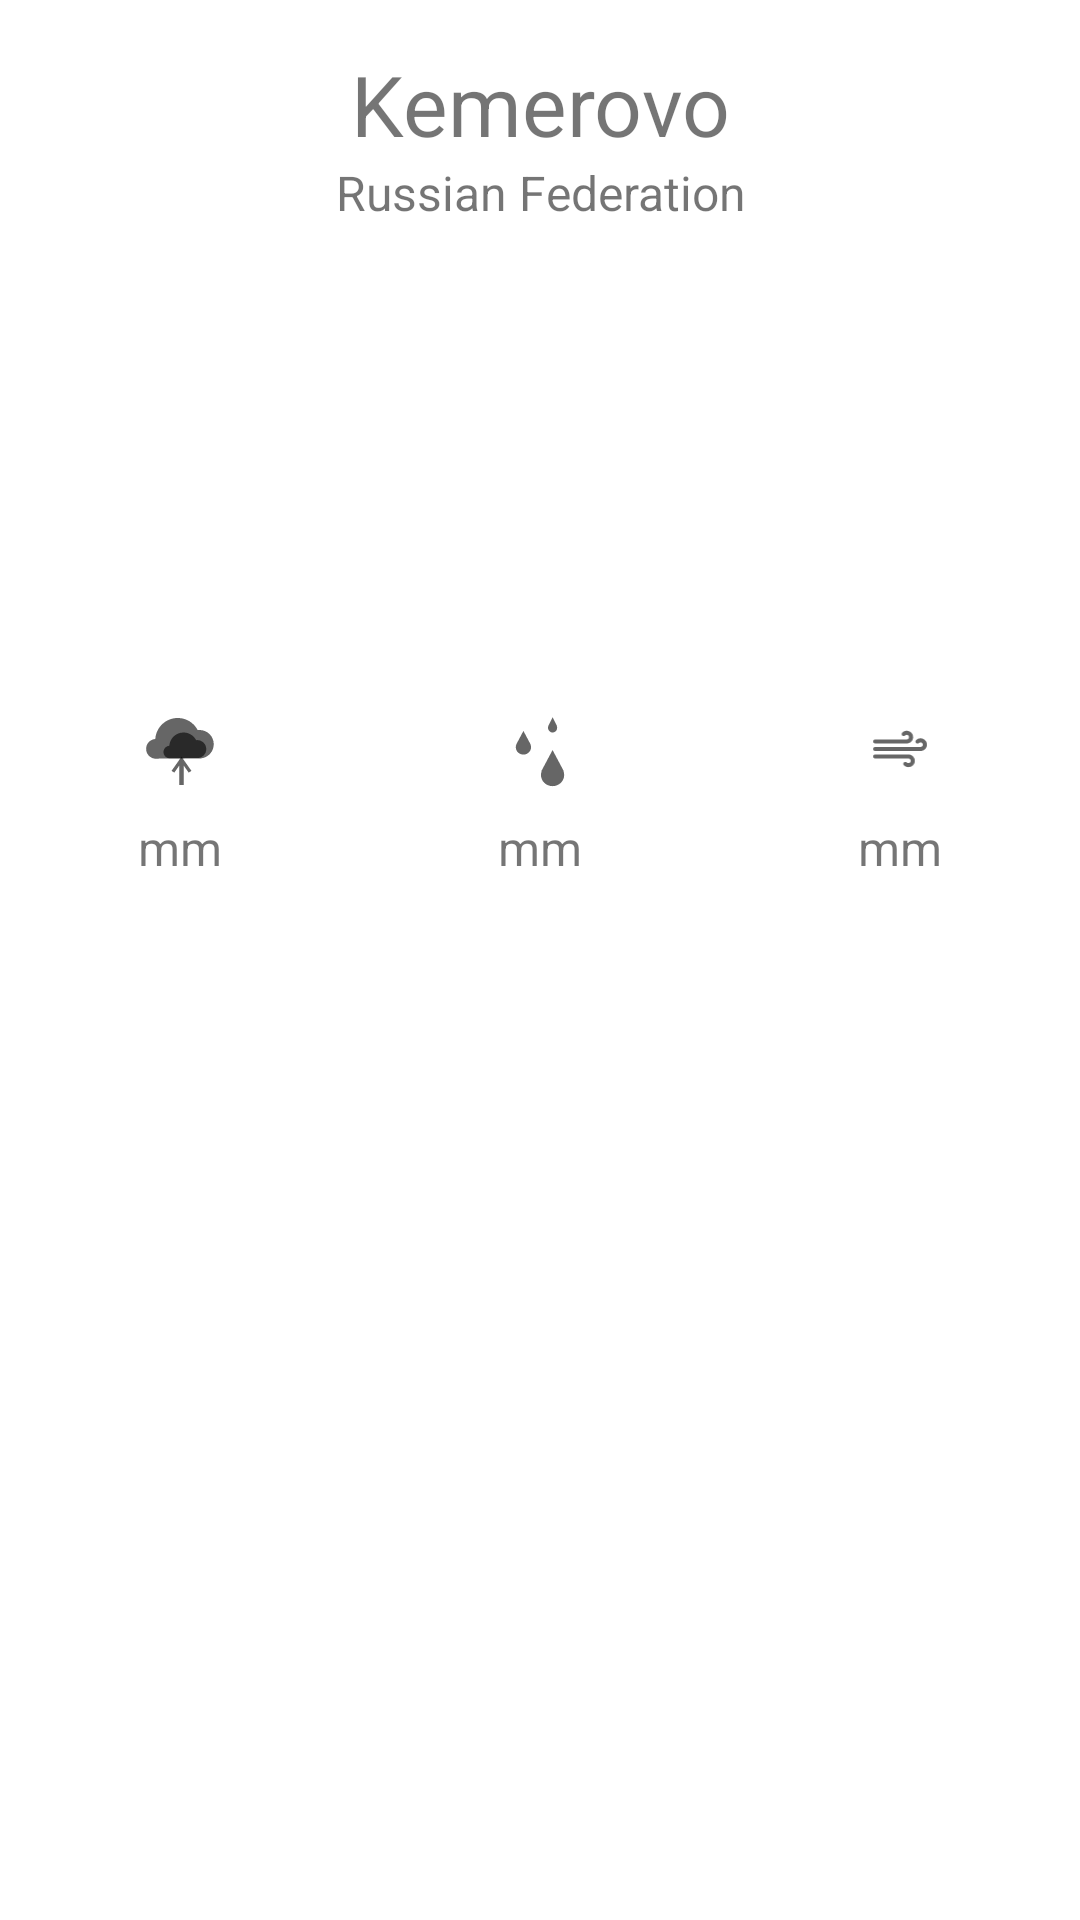

Named icons in this screenshot (1080×1920) and their bounding boxes, (x1, y1, x2, y2):
humidity: (515, 717, 564, 786)
wind: (873, 730, 927, 767)
